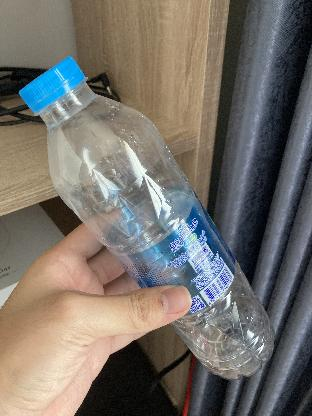Plastic Bottle: (17, 50, 279, 384)
